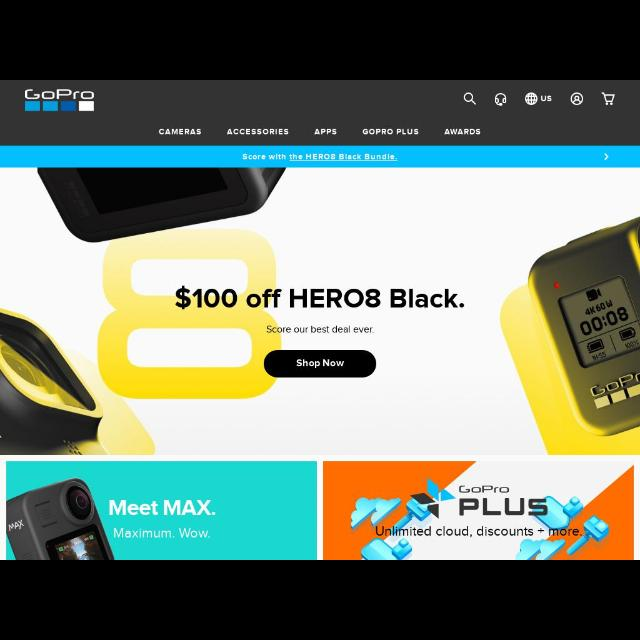backgroundimage: (1, 168, 639, 454)
icon: (526, 92, 552, 106), (602, 90, 616, 106), (463, 91, 477, 105), (570, 92, 584, 106), (494, 93, 506, 107), (604, 152, 608, 162)
image: (326, 460, 634, 560), (8, 461, 316, 559), (25, 90, 95, 112)
text: (176, 285, 464, 313), (241, 153, 397, 163), (265, 325, 375, 333), (295, 357, 345, 369), (226, 128, 288, 136), (361, 128, 419, 136), (158, 126, 202, 136), (444, 128, 480, 134), (314, 128, 336, 134)
textbutton: (265, 350, 377, 378)
toolbar: (1, 82, 639, 146)
